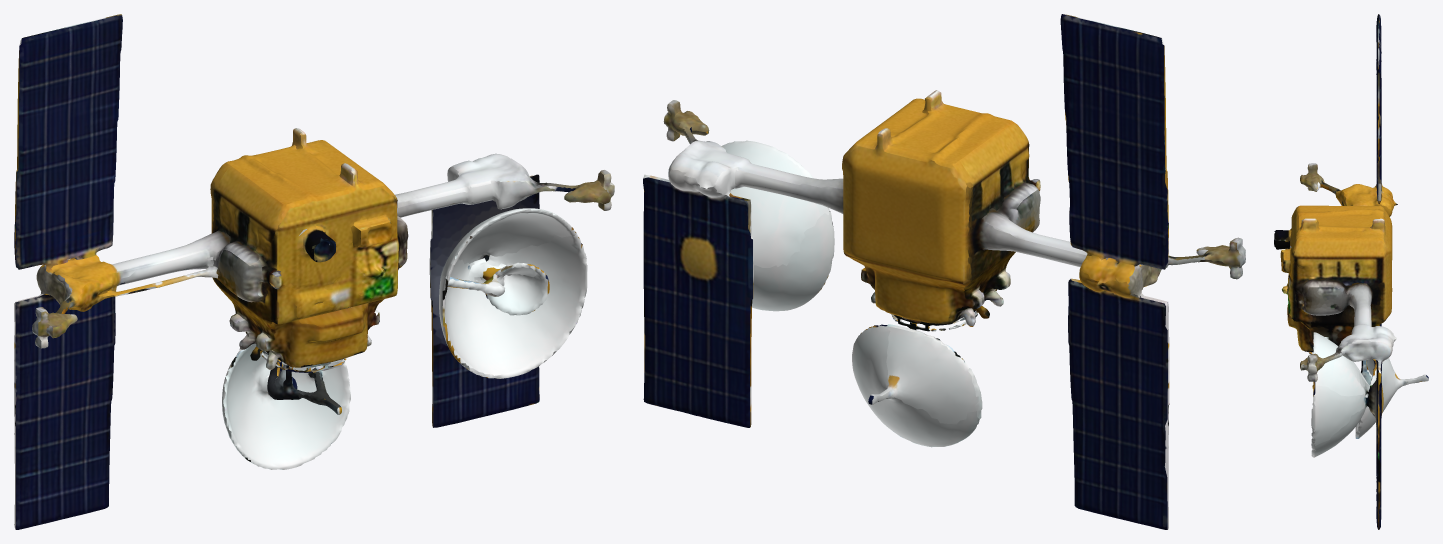
The model's file is fam_geo_comms.glb.
The picture shows the model from 3 angles, left to right: view 1: azimuth 30°, elevation 25°; view 2: azimuth 150°, elevation 25°; view 3: azimuth 270°, elevation 25°; orthographic projection. The views are drawn at different scales.
Parts seen in each view (by area): view 1: tmp8u3iml15.ply; view 2: tmp8u3iml15.ply; view 3: tmp8u3iml15.ply.
Part boxes in pixels (<box>): tmp8u3iml15.ply: <box>14,14,614,529</box>; tmp8u3iml15.ply: <box>643,14,1245,529</box>; tmp8u3iml15.ply: <box>1274,14,1428,529</box>.
Bounding box in the file's own units: 0.9847 × 0.7979 × 0.328.
Materials: 1 (1 with a texture image).
